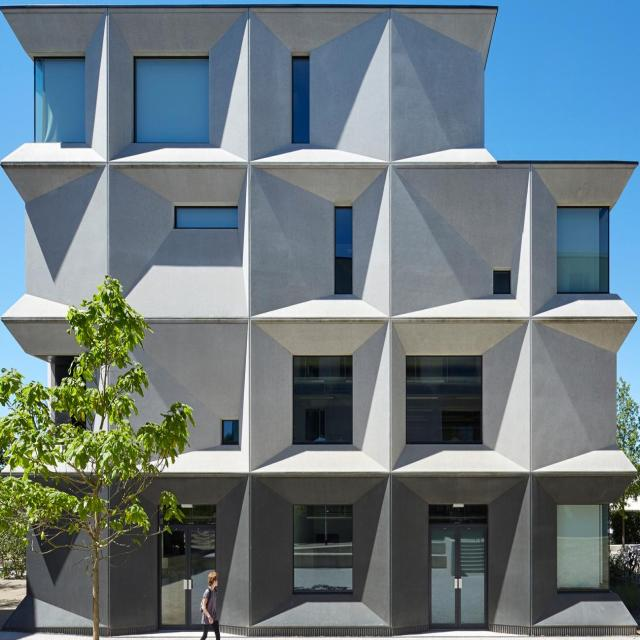door: (427, 505, 490, 630), (160, 500, 216, 624)
window: (404, 352, 484, 442), (131, 51, 209, 143), (292, 351, 354, 443), (291, 502, 354, 591), (554, 200, 610, 294), (34, 54, 90, 142), (558, 501, 611, 584), (332, 196, 353, 296), (293, 52, 310, 143), (173, 203, 239, 224), (224, 420, 240, 446), (494, 273, 510, 294)
